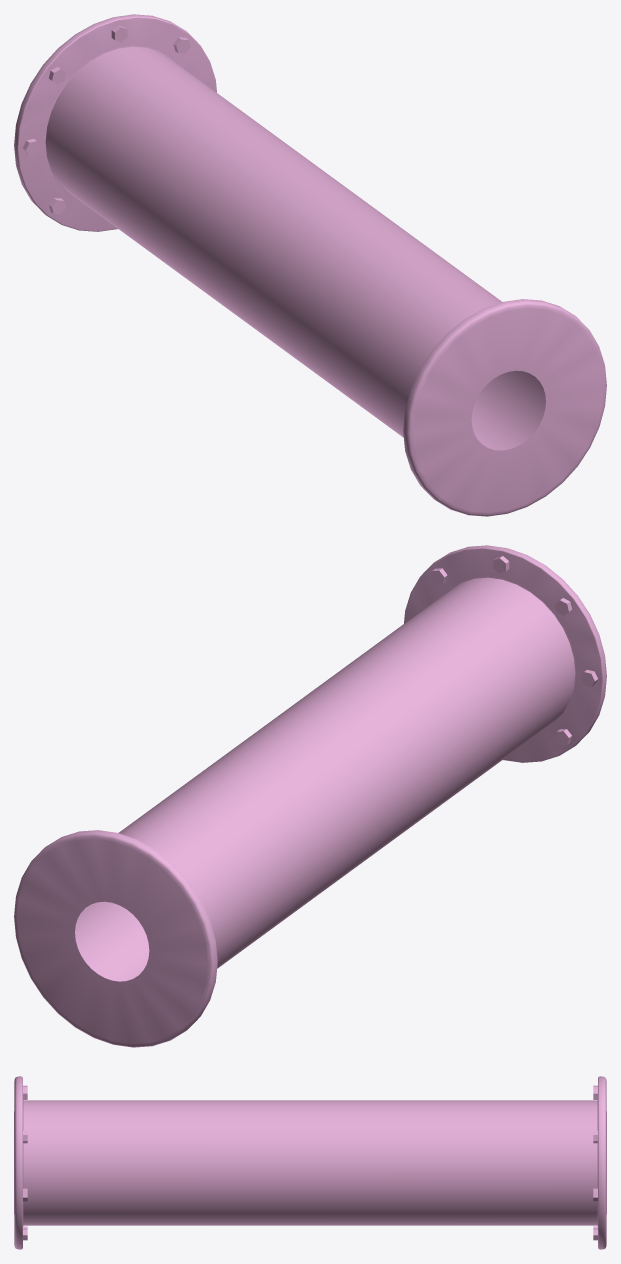
3 renders of one model, top to bottom at view 1: azimuth 30°, elevation 25°; view 2: azimuth 150°, elevation 25°; view 3: azimuth 270°, elevation 25°, orthographic. The views are drawn at different scales.
Visible parts, largest first — view 1: 50x15x15_low, 50x15x15xbolt_low; view 2: 50x15x15_low, 50x15x15xbolt_low; view 3: 50x15x15_low, 50x15x15xbolt_low.
Boxes of the visible parts, box(x1,y1,x2,y2) form: 50x15x15_low: box(14, 14, 606, 516); 50x15x15xbolt_low: box(23, 25, 190, 214); 50x15x15_low: box(14, 545, 606, 1047); 50x15x15xbolt_low: box(430, 556, 597, 745); 50x15x15_low: box(14, 1076, 606, 1249); 50x15x15xbolt_low: box(23, 1085, 597, 1240).
Size of the model in its own units: 14.61 by 14.61 by 50.01.
